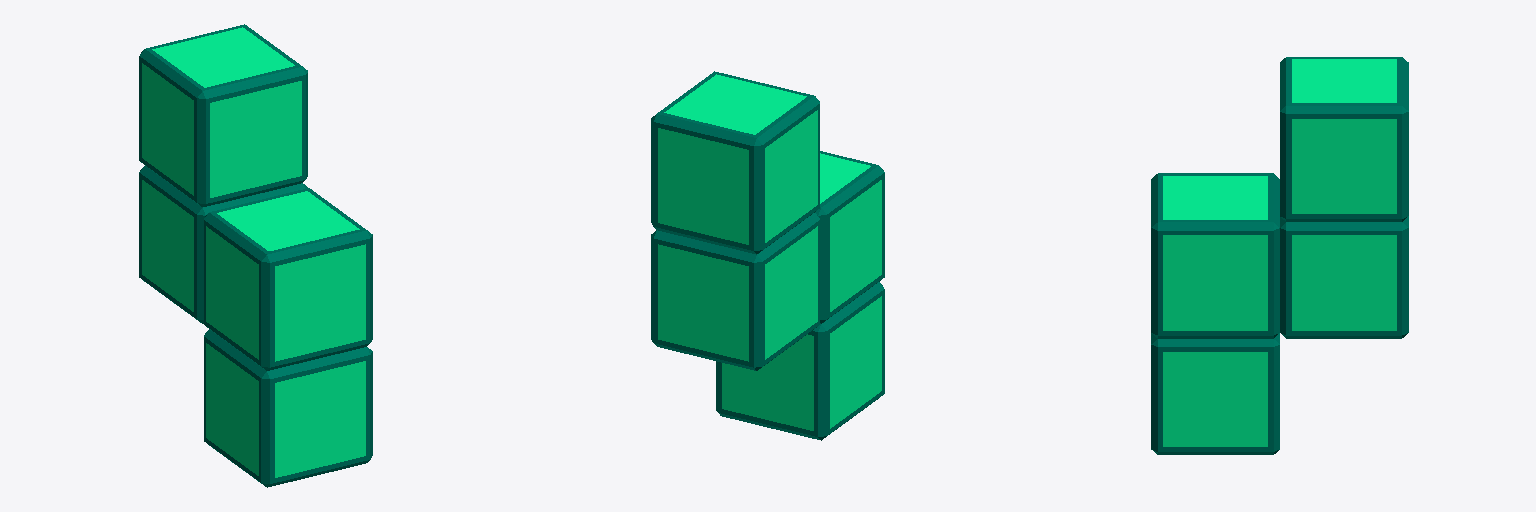
File: fig7_color.obj
3 renders of one model, left to right at view 1: azimuth 30°, elevation 25°; view 2: azimuth 150°, elevation 25°; view 3: azimuth 270°, elevation 25°, orthographic.
Parts seen in each view (by area): view 1: Cube.001, Cube.003, Cube, Cube.002; view 2: Cube.003, Cube.002, Cube, Cube.001; view 3: Cube.001, Cube.003, Cube.002, Cube.
Part boxes in pixels (x1,y1,x2,y2): Cube.001: (204, 188, 372, 370); Cube.003: (139, 24, 307, 206); Cube: (204, 329, 372, 487); Cube.002: (139, 166, 307, 323); Cube.003: (651, 71, 819, 254); Cube.002: (651, 213, 819, 370); Cube: (716, 282, 884, 440); Cube.001: (815, 151, 884, 323); Cube.001: (1151, 173, 1279, 338); Cube.003: (1280, 57, 1408, 221); Cube.002: (1280, 216, 1408, 338); Cube: (1151, 333, 1279, 454).
Size of the model in its own units: 2 by 6 by 4.